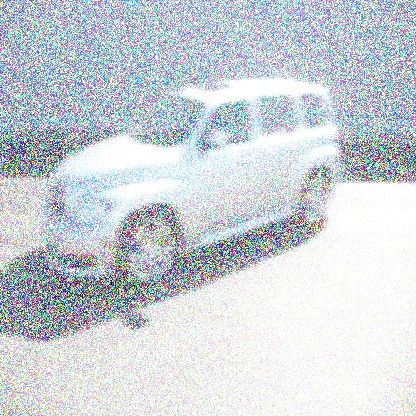Vehicle: (40, 79, 345, 296)
